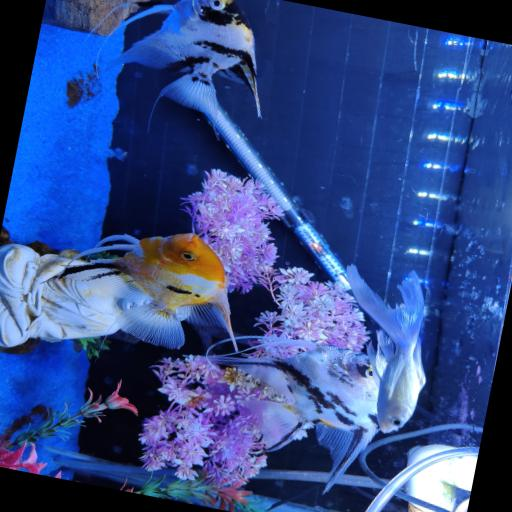Fish: (207, 341, 377, 492), (59, 233, 232, 348), (105, 0, 259, 116), (346, 265, 424, 432)
